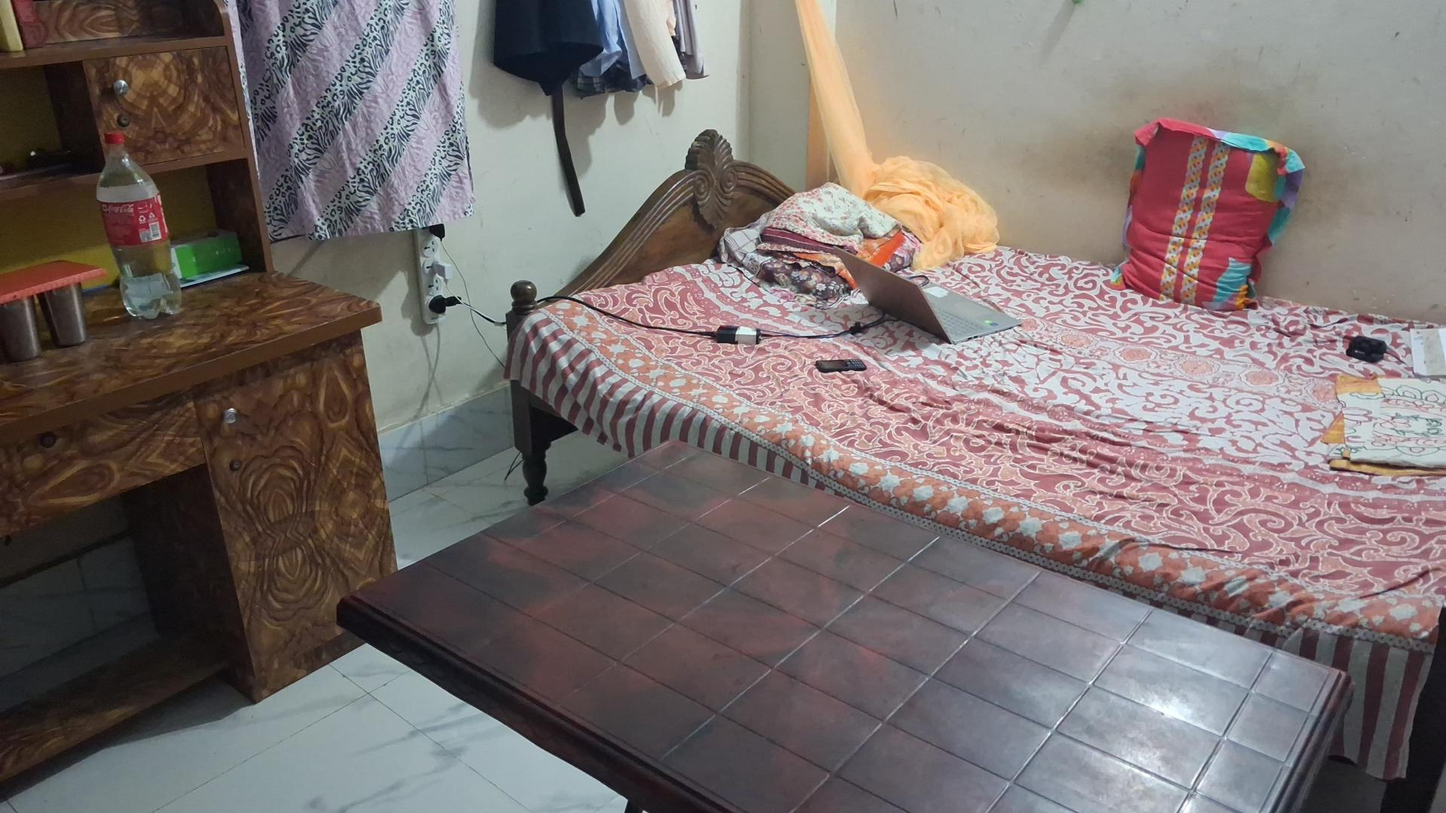Bottle: (96, 121, 183, 321)
Box: (166, 239, 256, 279)
Glass: (38, 282, 90, 338), (0, 295, 43, 362)
Laptop: (836, 249, 1022, 344)
Notebook: (2, 252, 103, 298)
Pillow: (1118, 97, 1295, 313)
Table: (330, 431, 1356, 813)
